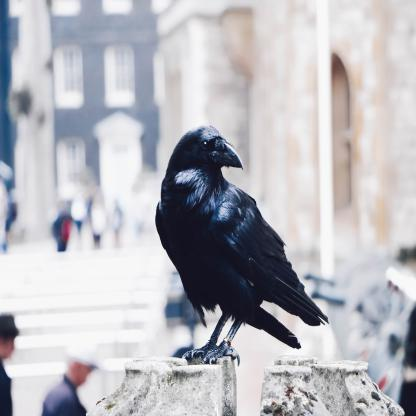bird: (155, 124, 329, 366)
